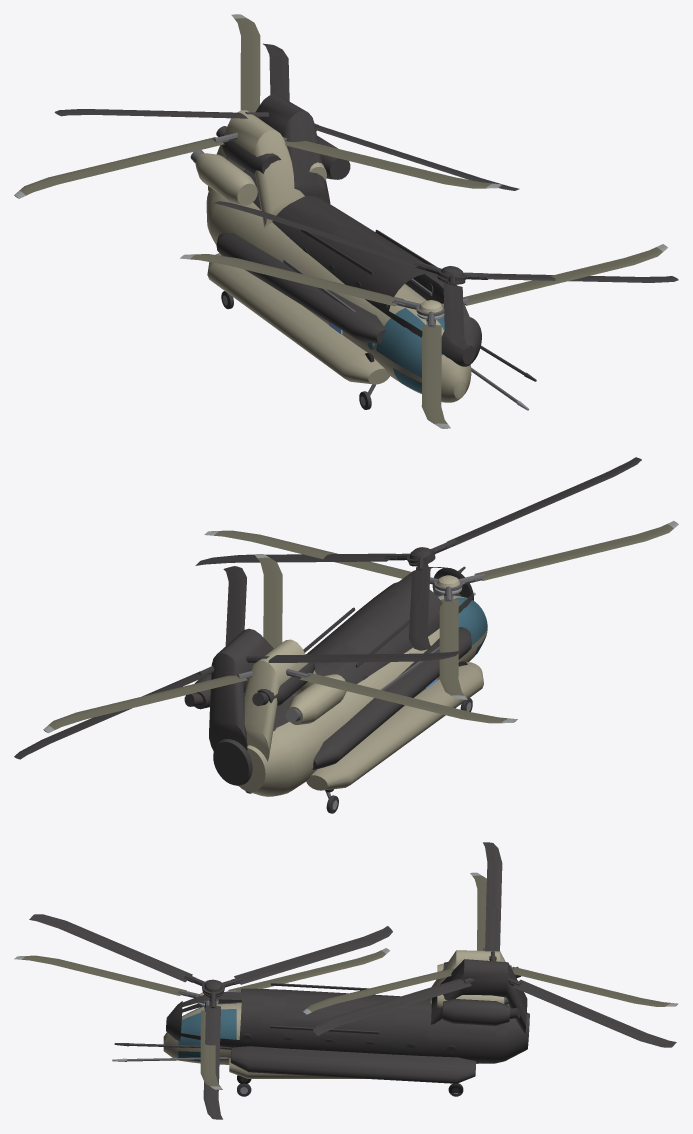
The model's file is heavyLift__mh_47g_chinook.glb.
The picture shows the model from 3 angles, top to bottom: view 1: azimuth 30°, elevation 25°; view 2: azimuth 150°, elevation 25°; view 3: azimuth 270°, elevation 25°; orthographic projection. The views are drawn at different scales.
Parts seen in each view (by area): view 1: Wreck, Fuselage_Mesh, Rotor_Main_Mesh, Rotor_Main_2_Mesh, Engines_Mesh; view 2: Wreck, Fuselage_Mesh, Rotor_Main_Mesh, Rotor_Main_2_Mesh, Engines_Mesh; view 3: Wreck, Fuselage_Mesh, Rotor_Main_Mesh, Rotor_Main_2_Mesh, Engines_Mesh.
Part boxes in pixels (bbox=[...]): Wreck: bbox=[54, 43, 678, 381]; Fuselage_Mesh: bbox=[206, 110, 529, 410]; Rotor_Main_Mesh: bbox=[180, 244, 667, 428]; Rotor_Main_2_Mesh: bbox=[14, 14, 502, 198]; Engines_Mesh: bbox=[190, 150, 326, 205]; Wreck: bbox=[14, 457, 641, 792]; Fuselage_Mesh: bbox=[238, 592, 487, 796]; Rotor_Main_Mesh: bbox=[204, 521, 678, 700]; Rotor_Main_2_Mesh: bbox=[43, 554, 517, 733]; Engines_Mesh: bbox=[285, 674, 346, 724]; Wreck: bbox=[29, 842, 676, 1119]; Fuselage_Mesh: bbox=[112, 950, 509, 1078]; Rotor_Main_Mesh: bbox=[14, 948, 389, 1089]; Rotor_Main_2_Mesh: bbox=[303, 872, 678, 1014]; Engines_Mesh: bbox=[437, 963, 511, 1007].
Size of what is drawn, in the model's own units: 18.64 by 7.8 by 28.29.
